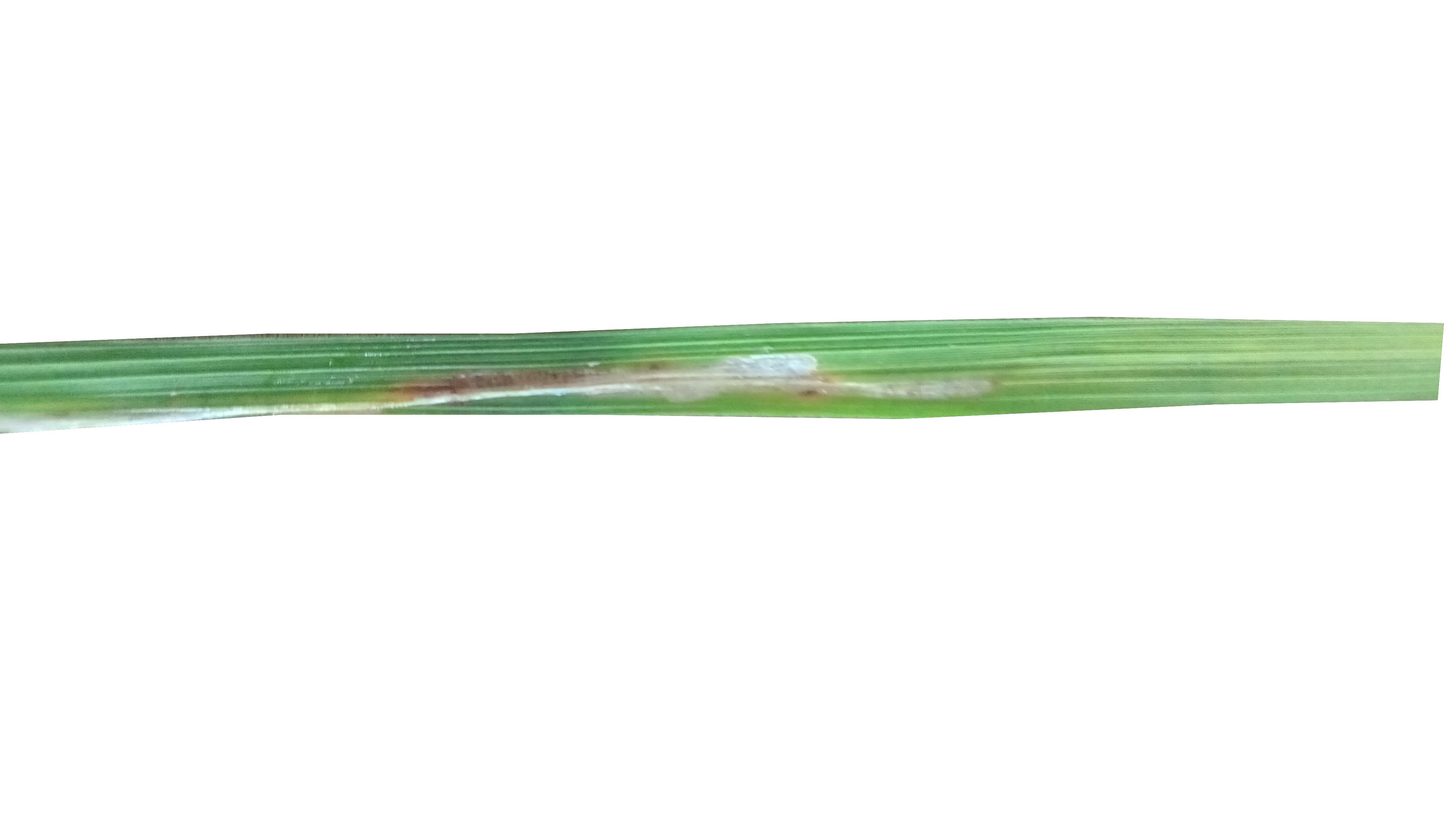Blight: (395, 370, 1006, 400), (683, 344, 829, 412)
